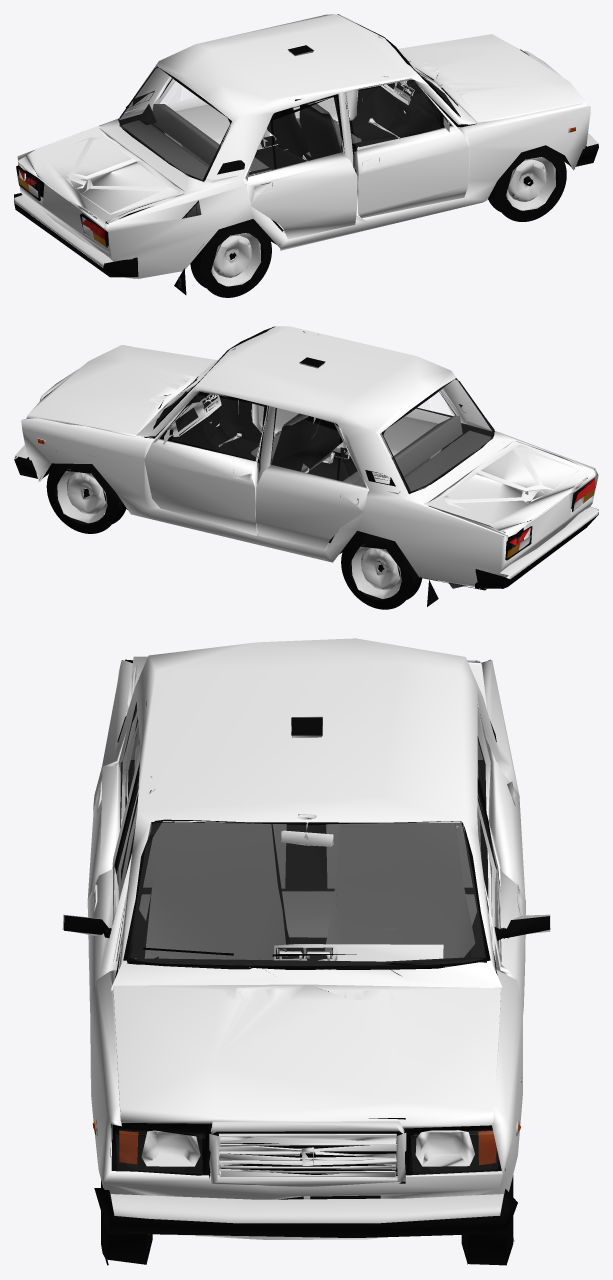
The model's file is vaz2107_lod.glb.
The picture shows the model from 3 angles, top to bottom: view 1: azimuth 30°, elevation 25°; view 2: azimuth 150°, elevation 25°; view 3: azimuth 270°, elevation 25°; orthographic projection. The views are drawn at different scales.
Parts seen in each view (by area): view 1: paint, Black, Chrome, wheel2_tire, Mat, wheel3_tire, wheel2_Silver, wheel3_Silver, white, body; view 2: paint, Black, Chrome, Mat, wheel0_tire, wheel1_tire, wheel0_Silver, wheel1_Silver, white, body; view 3: paint, Mat, Chrome, Black, body, wheel1_tire, wheel3_tire, front orange light.
Part boxes in pixels (<box>): paint: <box>17,14,590,278</box>; Black: <box>14,14,598,294</box>; Chrome: <box>14,35,598,267</box>; wheel2_tire: <box>190,219,271,297</box>; Mat: <box>152,101,361,184</box>; wheel3_tire: <box>488,145,566,221</box>; wheel2_Silver: <box>212,233,260,286</box>; wheel3_Silver: <box>506,157,555,210</box>; white: <box>106,120,208,288</box>; body: <box>182,45,441,218</box>; paint: <box>21,326,598,589</box>; Black: <box>14,326,598,606</box>; Chrome: <box>14,331,598,578</box>; Mat: <box>251,413,462,486</box>; wheel0_tire: <box>341,532,422,609</box>; wheel1_tire: <box>46,463,126,533</box>; wheel0_Silver: <box>351,545,401,598</box>; wheel1_Silver: <box>57,469,106,523</box>; white: <box>402,430,493,597</box>; body: <box>163,357,354,464</box>; paint: <box>87,638,525,1239</box>; Mat: <box>134,741,481,967</box>; Chrome: <box>62,660,550,1223</box>; Black: <box>64,659,550,1237</box>; body: <box>259,717,444,969</box>; wheel1_tire: <box>461,1175,513,1265</box>; wheel3_tire: <box>101,1180,152,1265</box>; front orange light: <box>92,1121,520,1165</box>.
Size of what is drawn, in the model's own units: 4.09 by 1.42 by 1.72.
34 materials, 2 textured.
